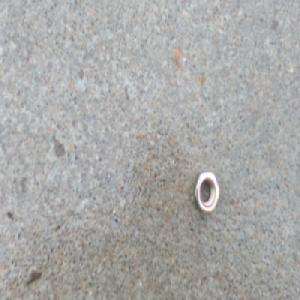Nut: (193, 170, 221, 217)
